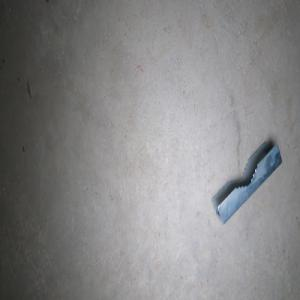ClampPart: (210, 139, 282, 225)
